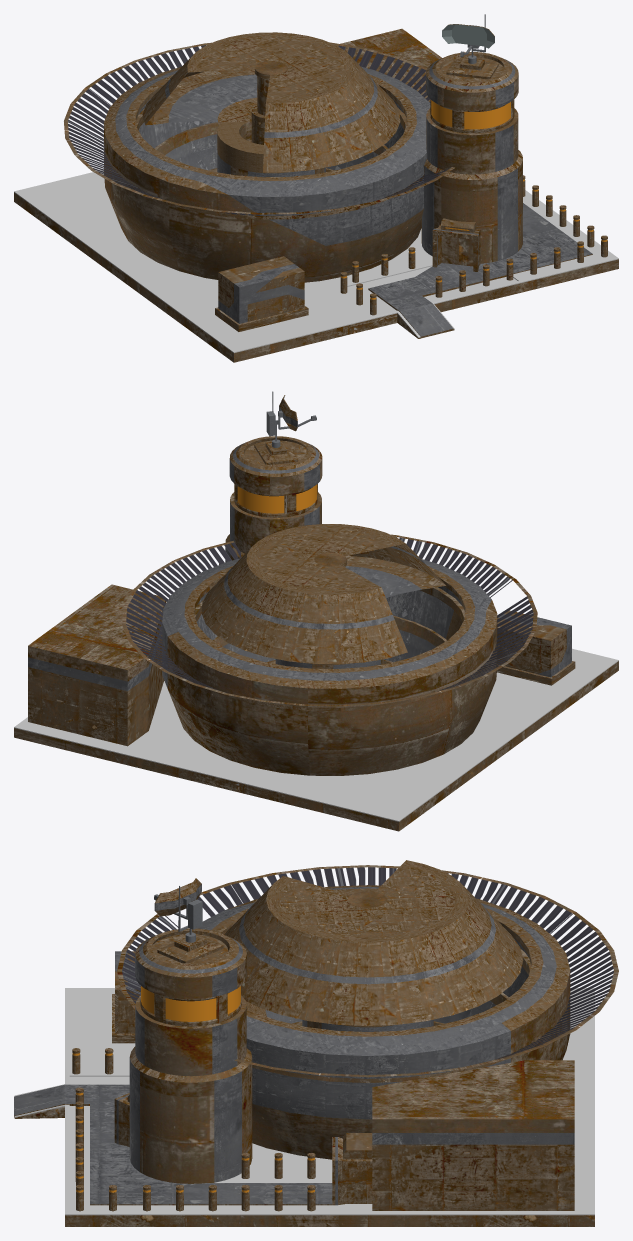
Rendered from Dronehub.gltf.
3 renders of one model, top to bottom at view 1: azimuth 30°, elevation 25°; view 2: azimuth 150°, elevation 25°; view 3: azimuth 270°, elevation 25°, orthographic. The views are drawn at different scales.
Parts seen in each view (by area): view 1: Dronehub_Main, Dronehub_Luke, Dronehub_Sat; view 2: Dronehub_Main, Dronehub_Luke, Dronehub_Sat; view 3: Dronehub_Main, Dronehub_Luke, Dronehub_Sat.
Part boxes in pixels (x1,y1,x2,y2): Dronehub_Main: [14, 28, 618, 362]; Dronehub_Luke: [142, 32, 400, 172]; Dronehub_Sat: [442, 14, 494, 63]; Dronehub_Main: [14, 436, 618, 831]; Dronehub_Luke: [201, 524, 445, 664]; Dronehub_Sat: [266, 391, 316, 447]; Dronehub_Main: [14, 865, 618, 1226]; Dronehub_Luke: [224, 860, 523, 1025]; Dronehub_Sat: [154, 878, 202, 942].
Size of the model in its own units: 22.12 by 12.7 by 23.93.
